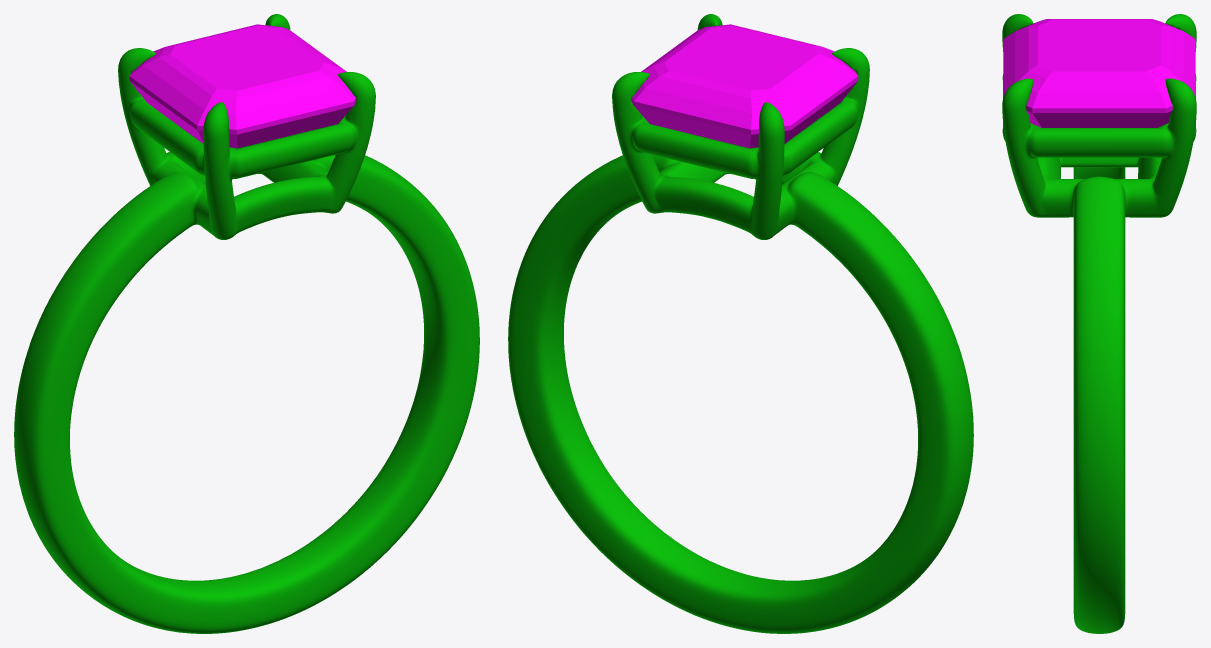
File: BE1542_AS_200ct_RENDER.glb
3 views of the same model, side by side, from view 1: azimuth 30°, elevation 25°; view 2: azimuth 150°, elevation 25°; view 3: azimuth 270°, elevation 25° (orthographic).
Parts seen in each view (by area): view 1: Metal 01, CS_Diamond_Asscher; view 2: Metal 01, CS_Diamond_Asscher; view 3: Metal 01, CS_Diamond_Asscher.
Part boxes in pixels (bbox=[...]): Metal 01: bbox=[14, 14, 479, 633]; CS_Diamond_Asscher: bbox=[129, 24, 356, 148]; Metal 01: bbox=[508, 14, 973, 633]; CS_Diamond_Asscher: bbox=[631, 24, 858, 148]; Metal 01: bbox=[1002, 14, 1196, 633]; CS_Diamond_Asscher: bbox=[1003, 19, 1195, 127].
Bounding box in the file's own units: 20.31 × 24.24 × 7.58.
